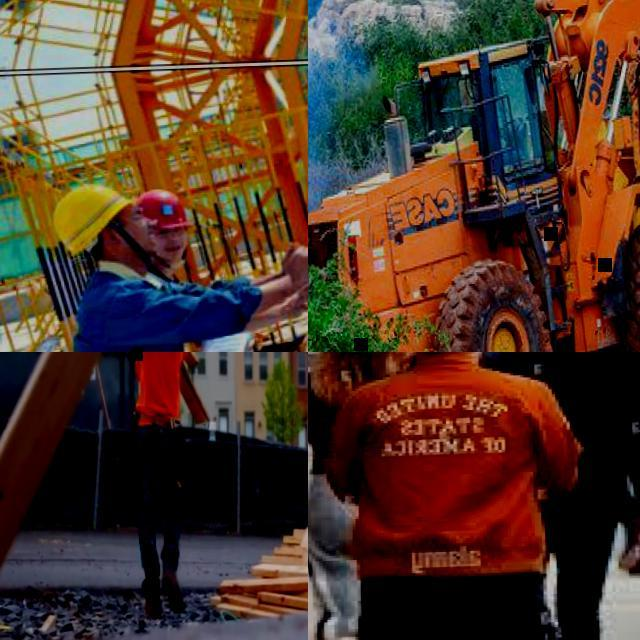helmet: (50, 180, 135, 256), (136, 189, 193, 226)
machinery: (308, 0, 640, 352)
no_mask: (132, 219, 156, 251), (157, 238, 189, 260)
no_vest: (348, 363, 560, 566), (499, 352, 626, 513), (308, 366, 394, 469), (73, 274, 175, 352), (136, 352, 192, 424)
person: (322, 352, 585, 640), (471, 352, 640, 640), (52, 172, 308, 343), (308, 352, 430, 640), (137, 185, 308, 333), (128, 352, 203, 621), (587, 352, 640, 581), (492, 76, 514, 161)
